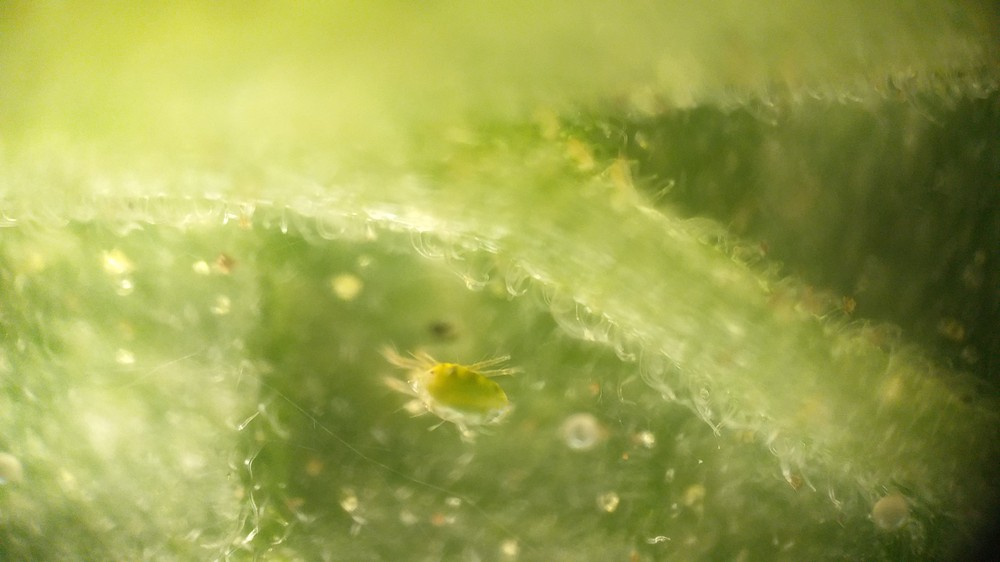Aracnido Rojo: (369, 323, 535, 450)
